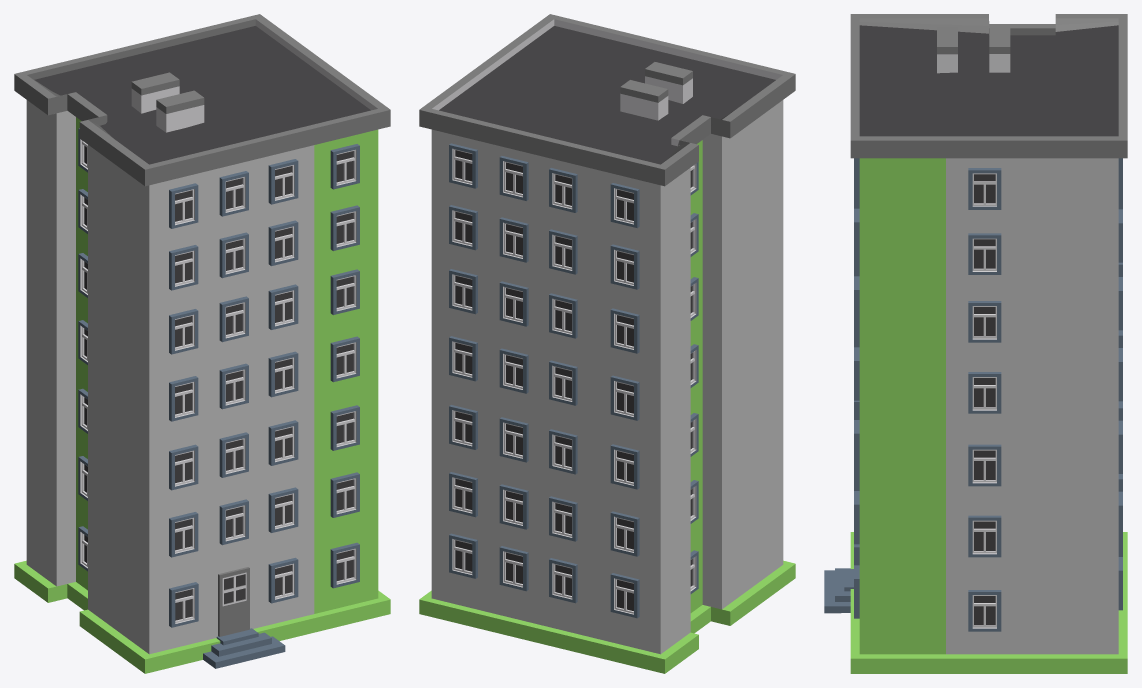
Rendered from flat_1.fbx.
3 renders of one model, left to right at view 1: azimuth 30°, elevation 25°; view 2: azimuth 150°, elevation 25°; view 3: azimuth 270°, elevation 25°, orthographic. The views are drawn at different scales.
Visible parts, largest first — view 1: Flat1; view 2: Flat1; view 3: Flat1.
Boxes of the visible parts, left/top/right/bottom form: Flat1: left=14, top=14, right=390, bottom=673; Flat1: left=419, top=14, right=795, bottom=673; Flat1: left=824, top=14, right=1127, bottom=673.
Size of the model in its own units: 6.21 by 12.61 by 6.27.
